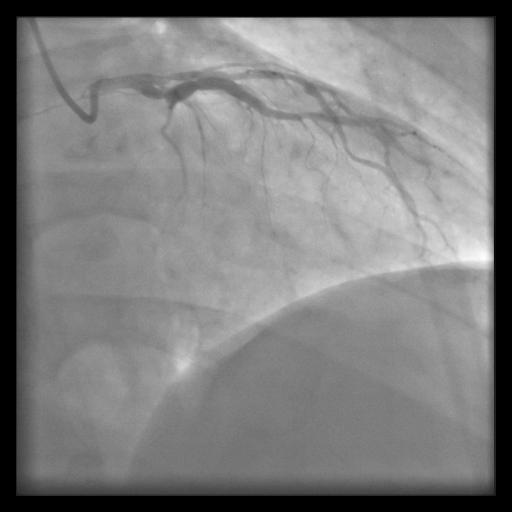Stenosis: (155, 83, 176, 110)
